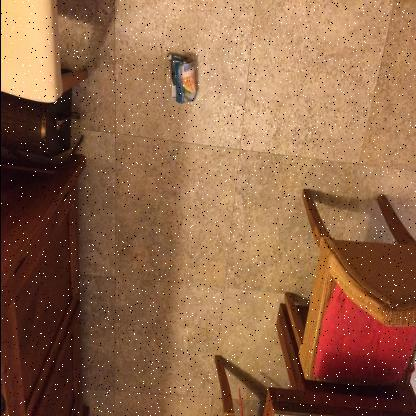cardboard: (166, 53, 196, 104)
